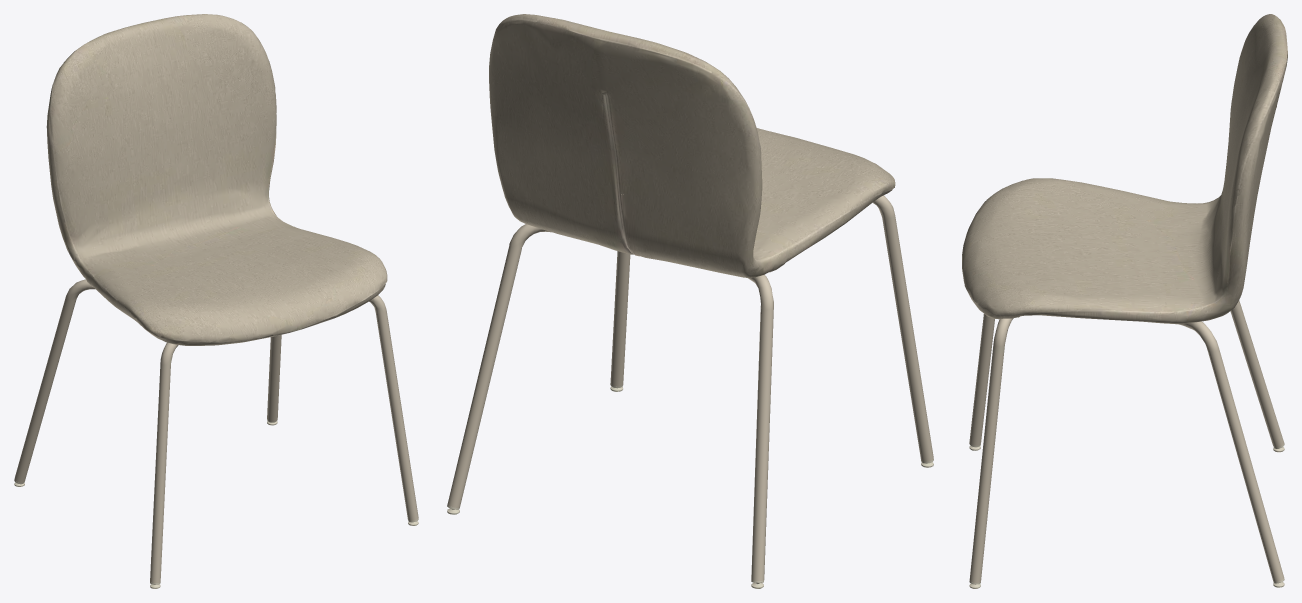
The model's file is skalsta_krzeso_89608740.glb.
3 views of the same model, side by side, from view 1: azimuth 30°, elevation 25°; view 2: azimuth 150°, elevation 25°; view 3: azimuth 270°, elevation 25° (orthographic). The views are drawn at different scales.
Parts seen in each view (by area): view 1: skalsta_krzeso_89608740; view 2: skalsta_krzeso_89608740; view 3: skalsta_krzeso_89608740.
Part boxes in pixels (x1,y1,x2,y2): skalsta_krzeso_89608740: [14, 14, 418, 588]; skalsta_krzeso_89608740: [447, 14, 933, 588]; skalsta_krzeso_89608740: [962, 14, 1287, 588].
Bounding box in the file's own units: 0.52 × 0.8 × 0.5.
Materials: 2 (2 with a texture image).
